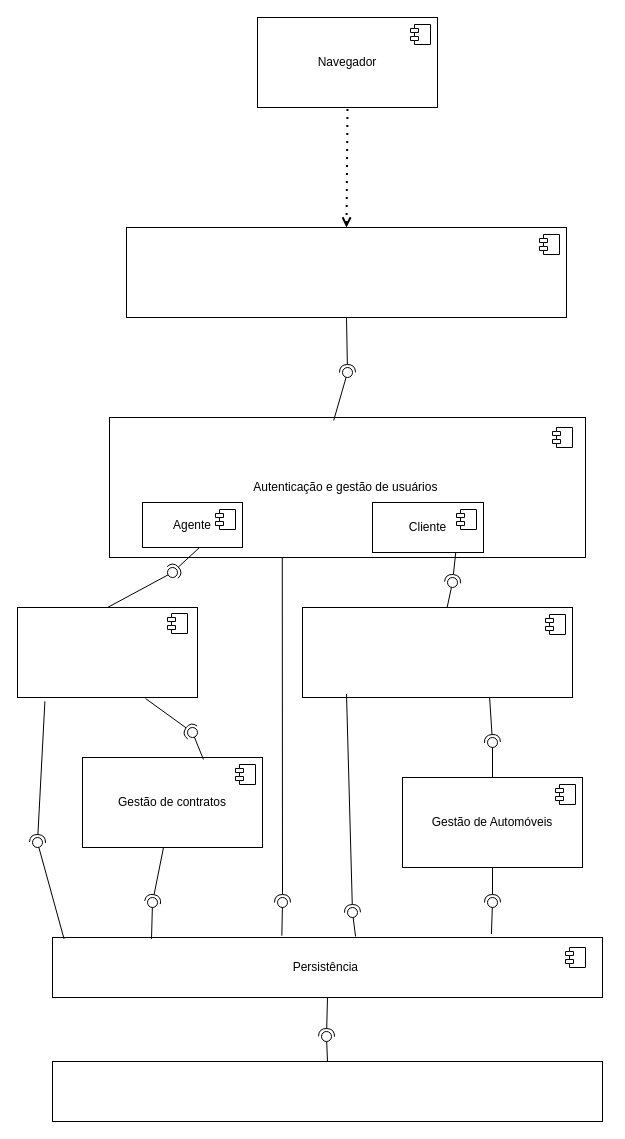
The diagram is 625 pixels wide and 1139 high, and some of its shapes have lost their labels. Here are the shapes that lost their labels. From the top down, the centre of each, then its label:
[346,272]: Servidor Central
[107,652]: Avaliação Financeira
[437,652]: Gestão de Pedidos
[327,1091]: SGBD
